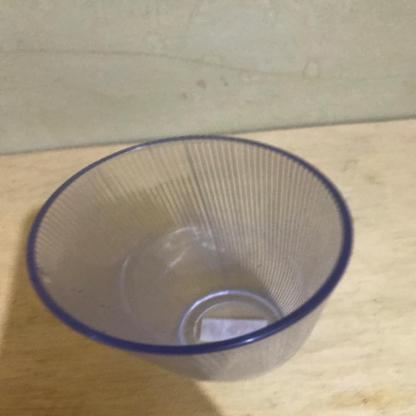glass: (32, 134, 360, 379)
